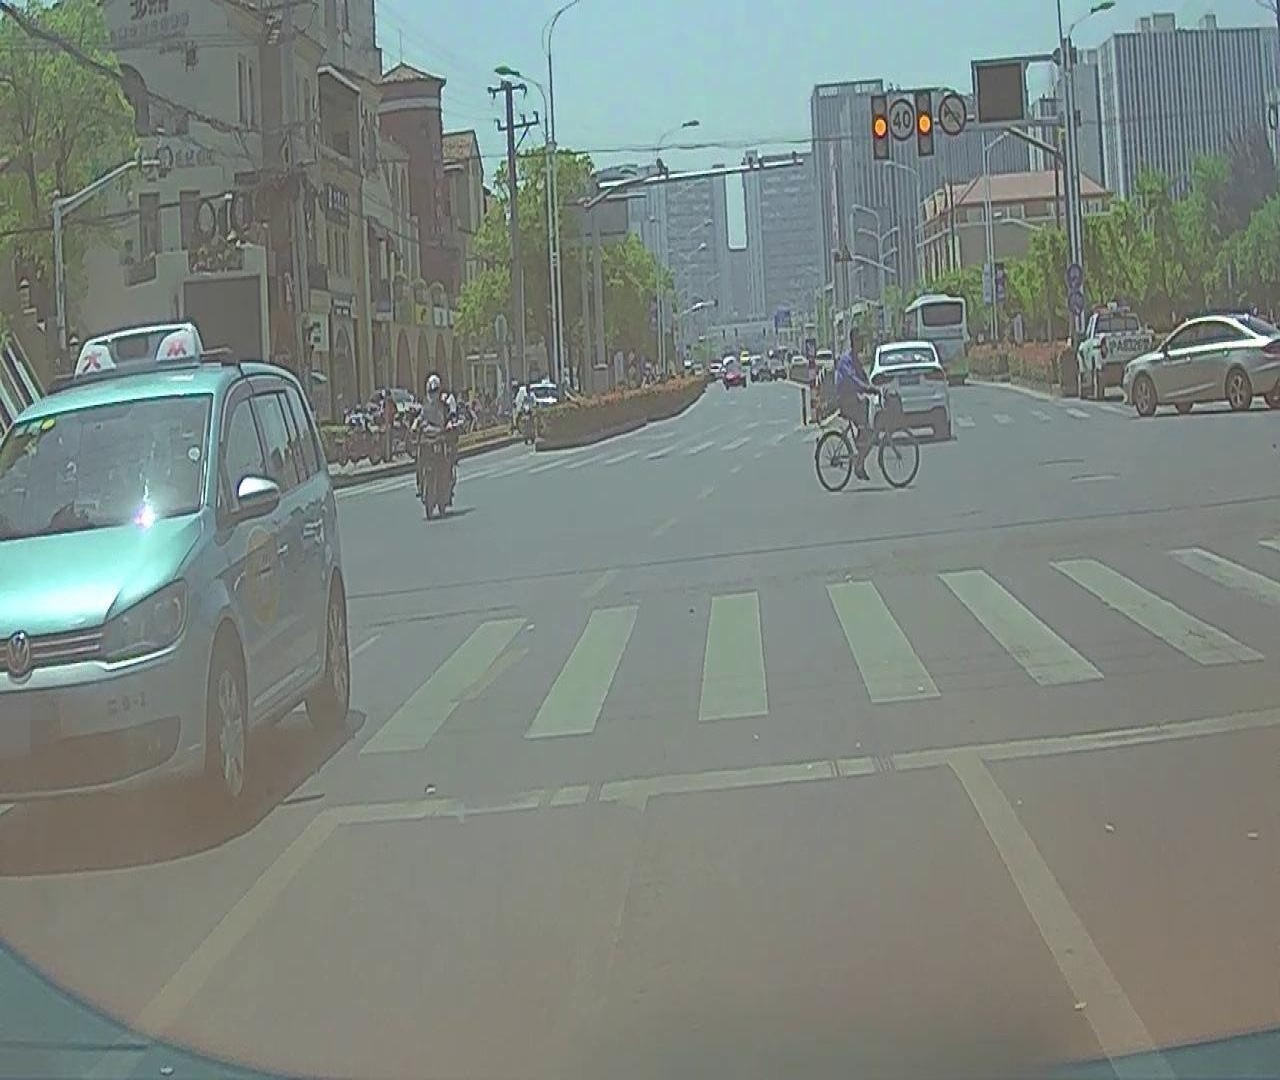yellow: (916, 90, 934, 154), (873, 96, 888, 160)
